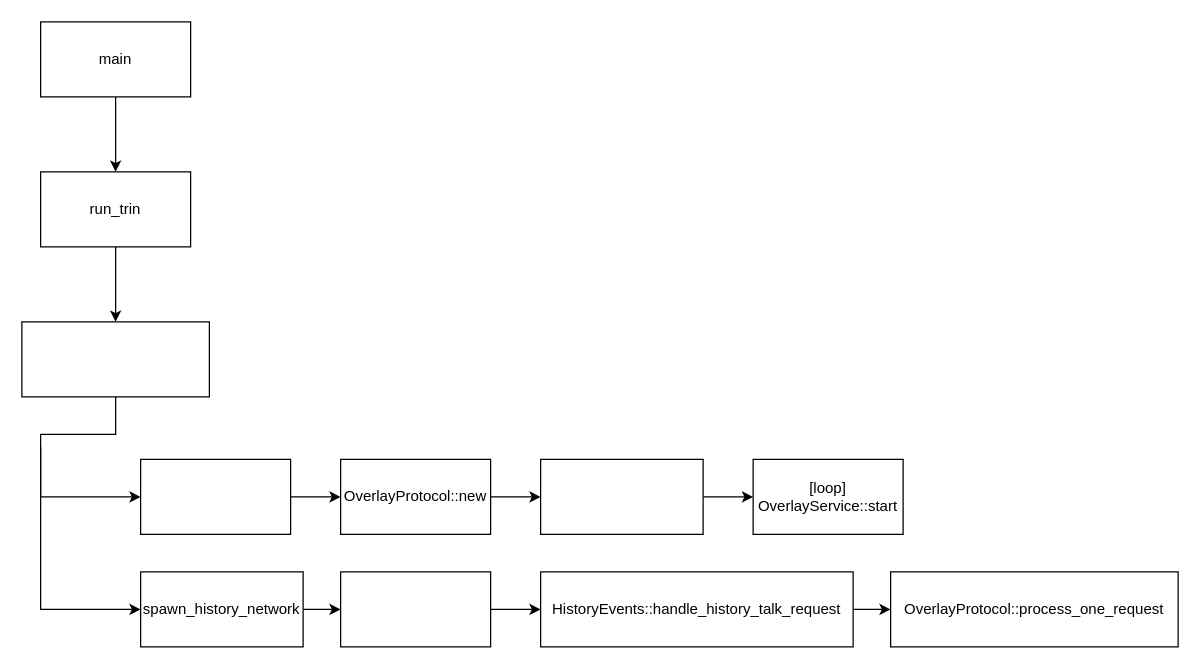
This 1200x669 diagram has some shape labels left out. The centre of each missing label's shape, as x and y in pixels:
"[loop] HistoryEvents::start" goes at (415,609).
"HistoryNetwork::new" goes at (215,496).
"initialize_history_network" goes at (115,359).
"OverlayService::spawn" goes at (621,496).
